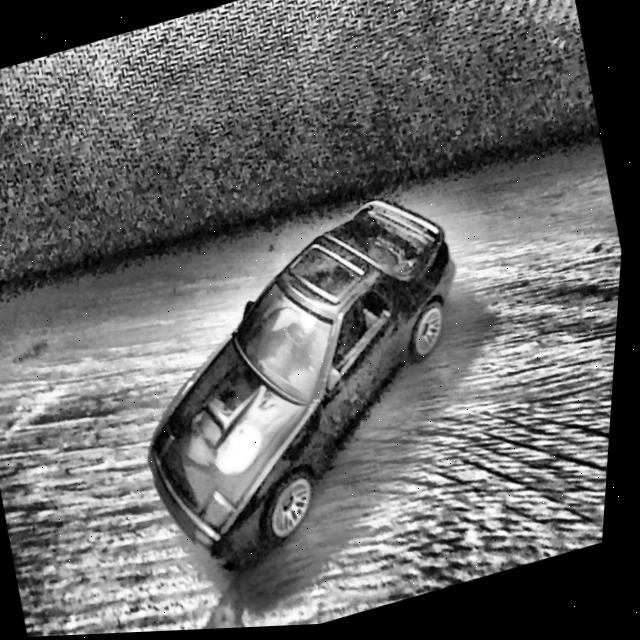car: (100, 180, 522, 596)
